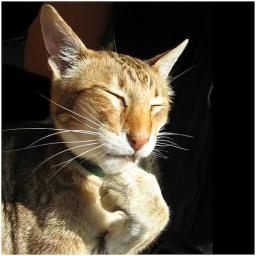catnose: (129, 134, 150, 152)
